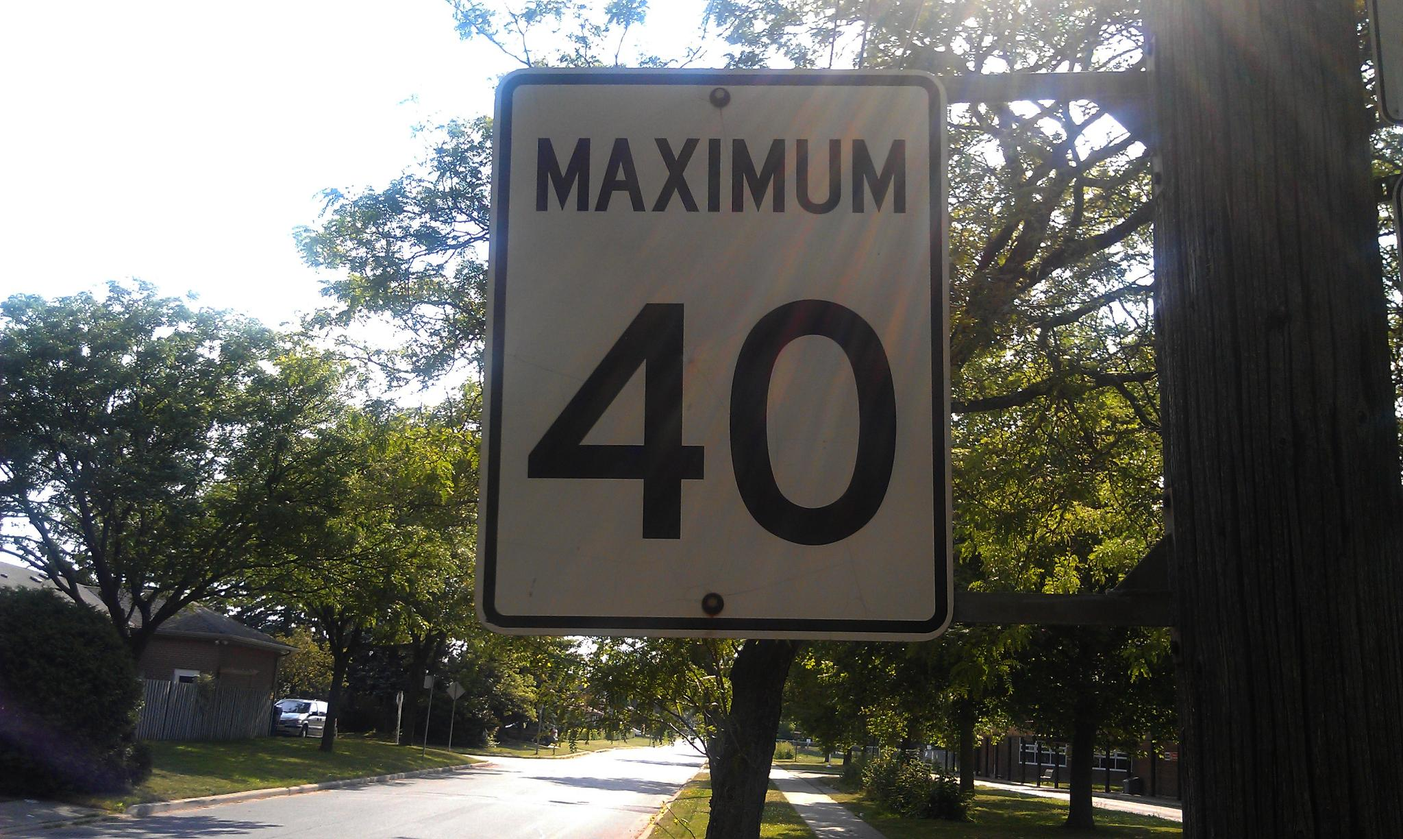speed limit sign: (488, 70, 954, 640)
